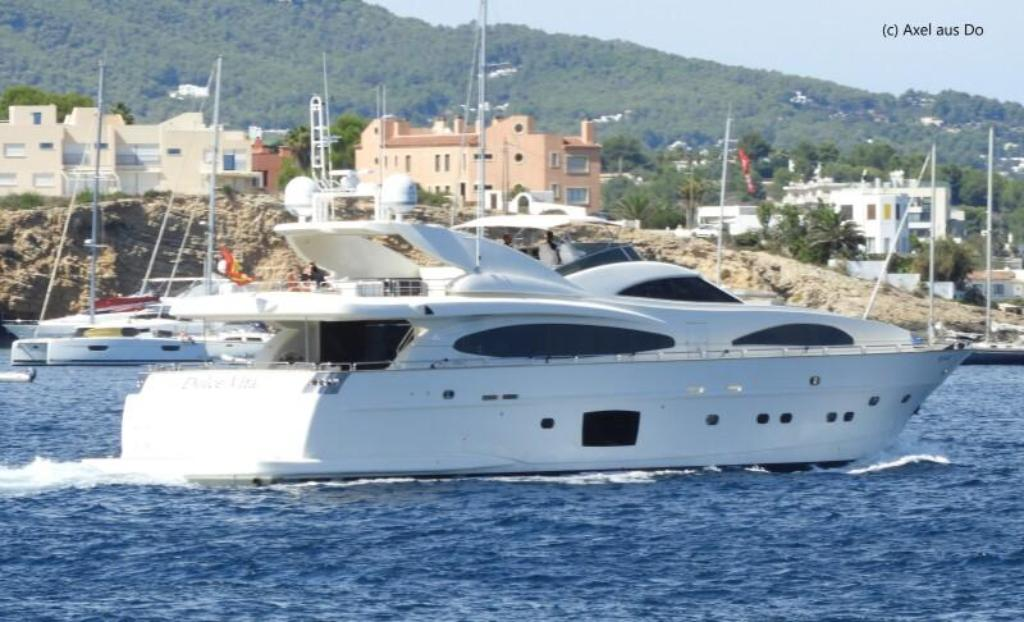PassengerShip: (112, 106, 978, 490)
